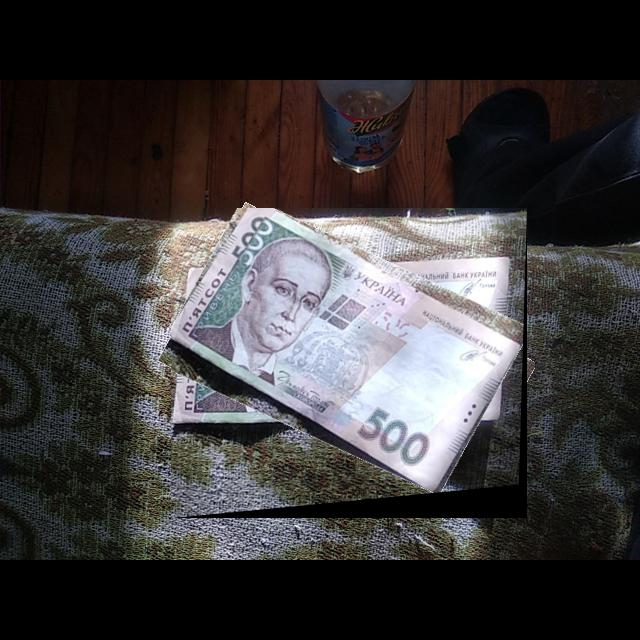500uah: (171, 208, 524, 499)
